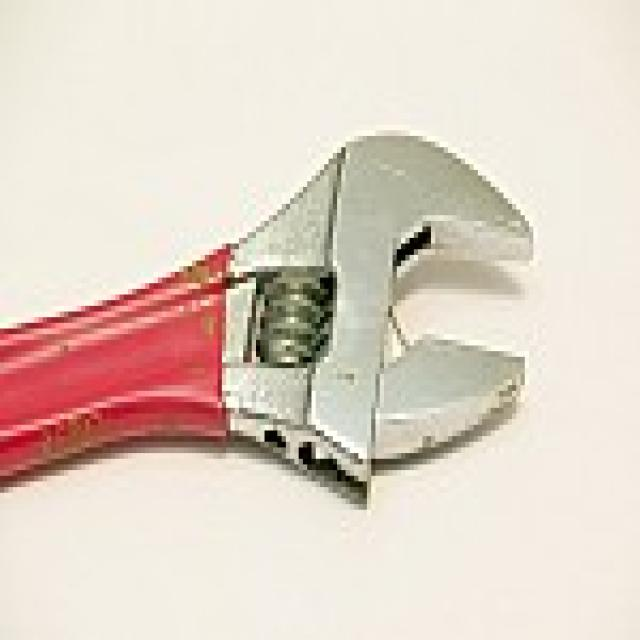wrench: (0, 101, 633, 551)
